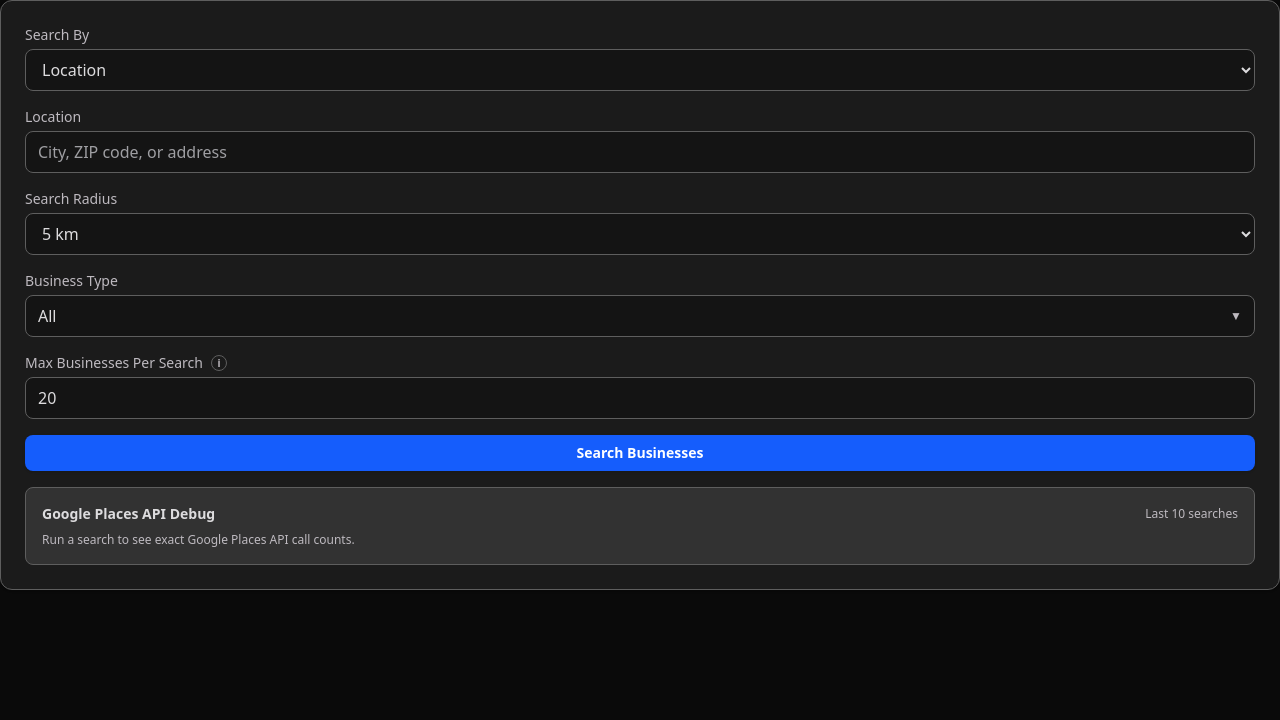
Test: SearchForm › selects all business types when the select-all checkbox is checked
Click the button with aria-label "business type": (47, 316) [25, 295, 1255, 337]
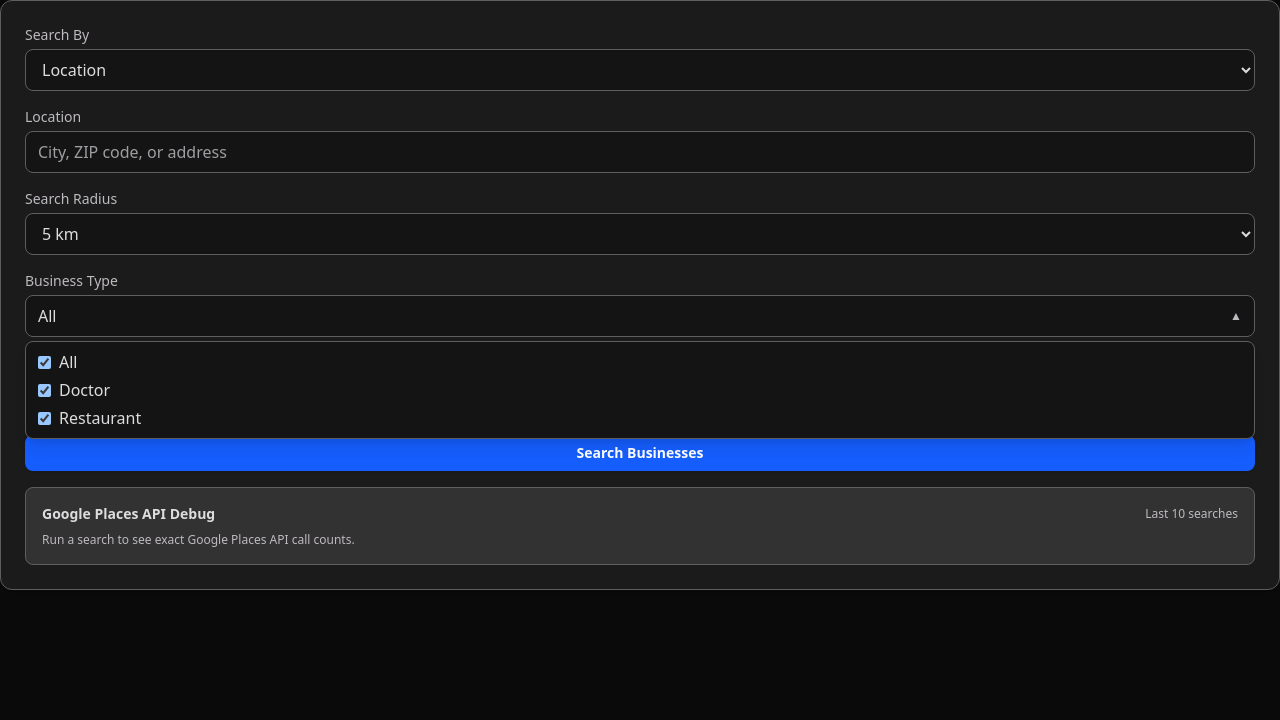
Expected: the button with aria-label "business type" is expanded, [25, 295, 1255, 337]
Click the checkbox labelled "All": (44, 362) [38, 356, 51, 368]
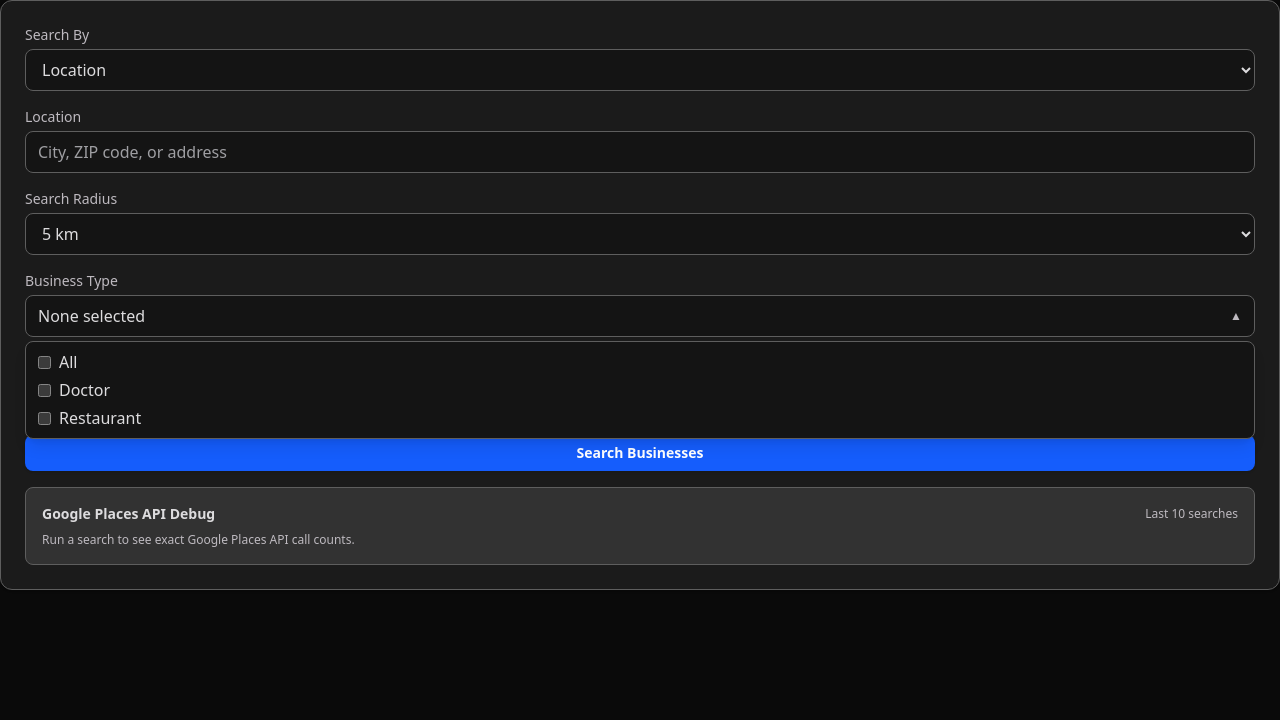
Expected: the checkbox labelled "All" is not checked
Click the checkbox labelled "All": (44, 362) [38, 356, 51, 368]
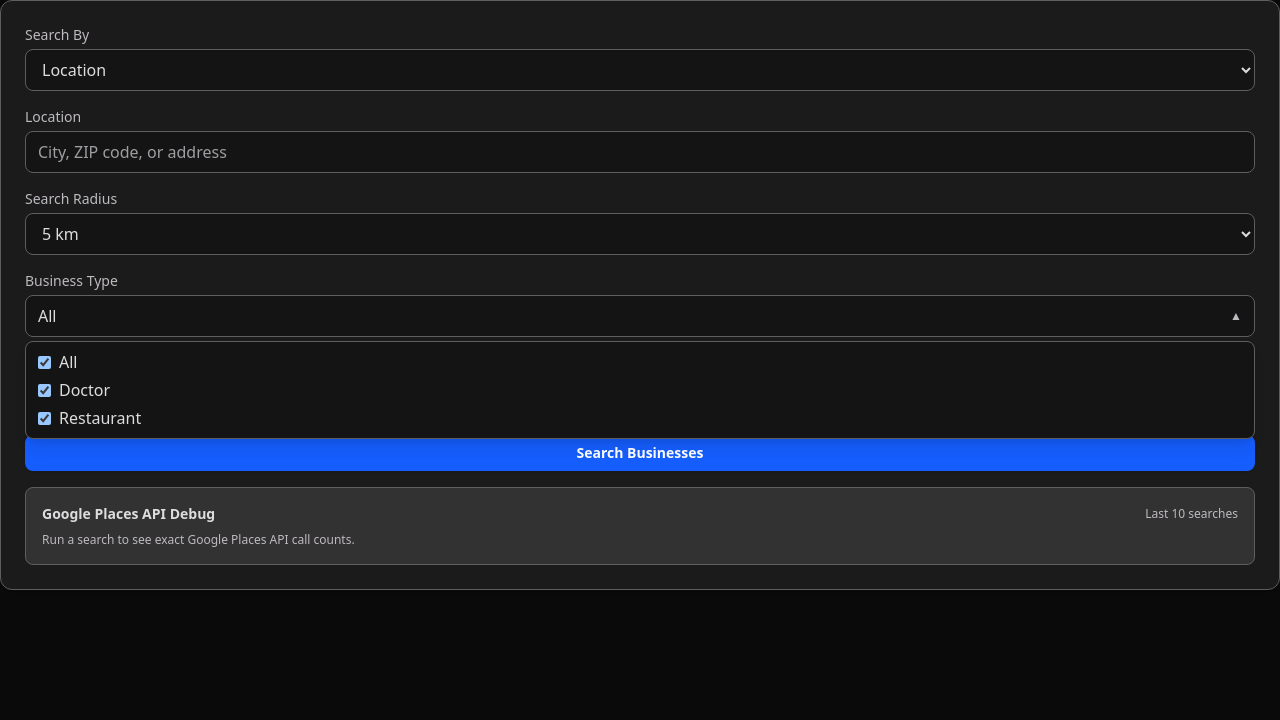
Expected: the checkbox labelled "Doctor" is checked, [38, 384, 51, 396]
Expected: the checkbox labelled "Restaurant" is checked, [38, 412, 51, 424]
